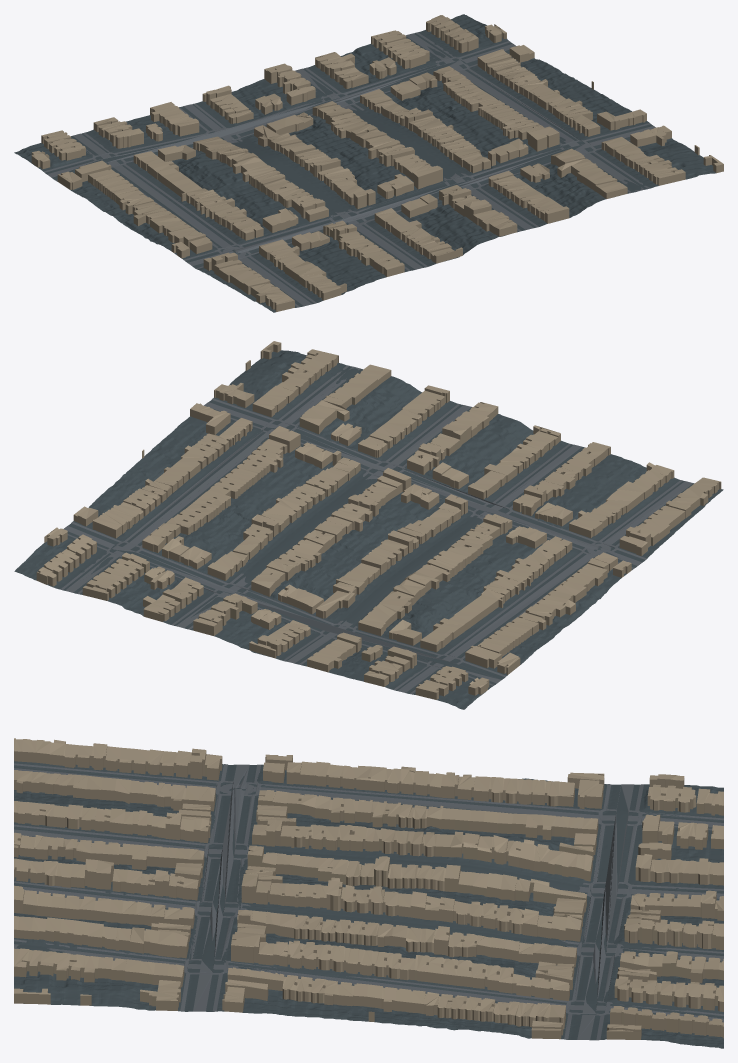
File: epsg26910-1420-10879.lod0.glb
3 renders of one model, top to bottom at view 1: azimuth 30°, elevation 25°; view 2: azimuth 150°, elevation 25°; view 3: azimuth 270°, elevation 25°, orthographic. The views are drawn at different scales.
Parts seen in each view (by area): view 1: epsg26910-1420-10879-lod0; view 2: epsg26910-1420-10879-lod0; view 3: epsg26910-1420-10879-lod0.
Boxes of the visible parts, x1,y1,x2,y2 form: epsg26910-1420-10879-lod0: (14, 14, 723, 312); epsg26910-1420-10879-lod0: (14, 341, 723, 709); epsg26910-1420-10879-lod0: (14, 738, 723, 1048).
Bounding box in the file's own units: 384 × 57.34 × 384.
